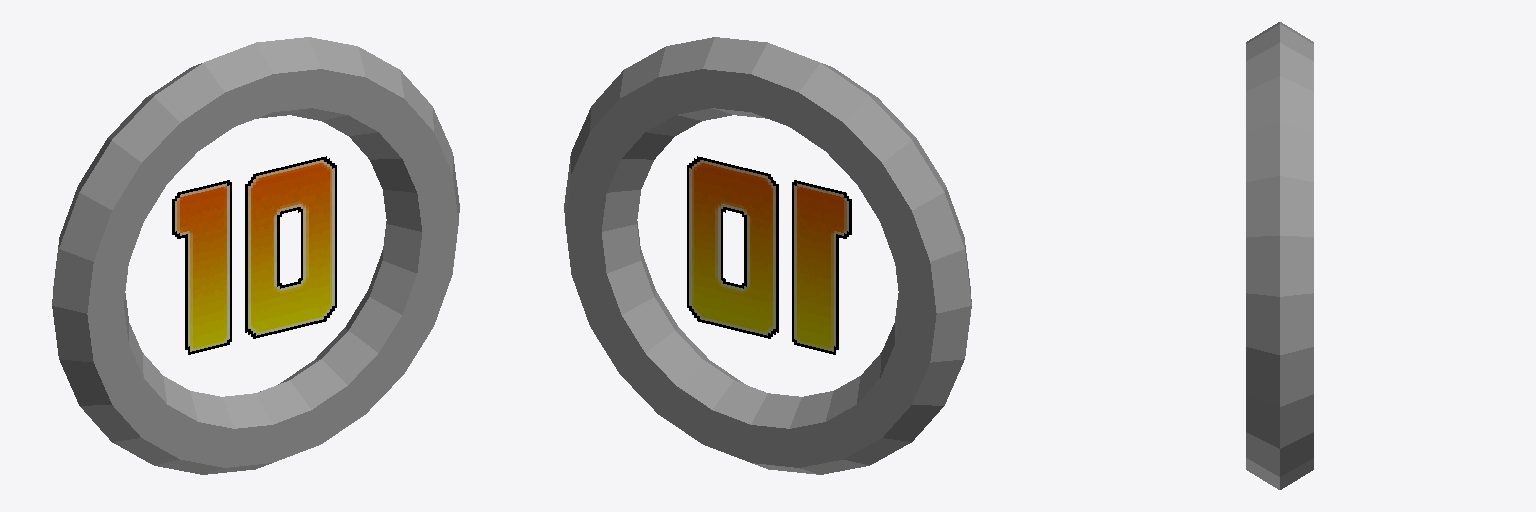
3 renders of one model, left to right at view 1: azimuth 30°, elevation 25°; view 2: azimuth 150°, elevation 25°; view 3: azimuth 270°, elevation 25°, orthographic.
Parts seen in each view (by area): view 1: rdmobj00_rdmobj00.007, rdmobj01_rdmobj01.001; view 2: rdmobj00_rdmobj00.007, rdmobj01_rdmobj01.001; view 3: rdmobj00_rdmobj00.007.
Part boxes in pixels (x1,y1,x2,y2): rdmobj00_rdmobj00.007: (52, 37, 459, 474); rdmobj01_rdmobj01.001: (172, 156, 336, 354); rdmobj00_rdmobj00.007: (564, 37, 971, 474); rdmobj01_rdmobj01.001: (687, 156, 851, 354); rdmobj00_rdmobj00.007: (1246, 22, 1313, 489).
Bounding box in the file's own units: 35.77 × 35.77 × 5.2.
2 materials, 1 textured.